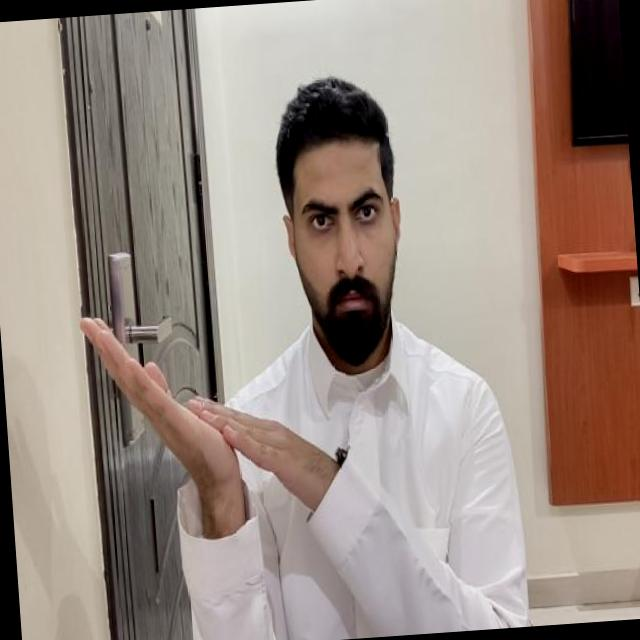complaint: (75, 298, 348, 543)
